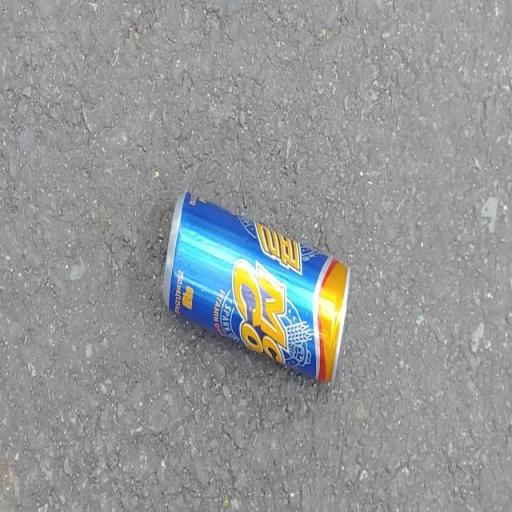metal: (152, 177, 360, 396)
